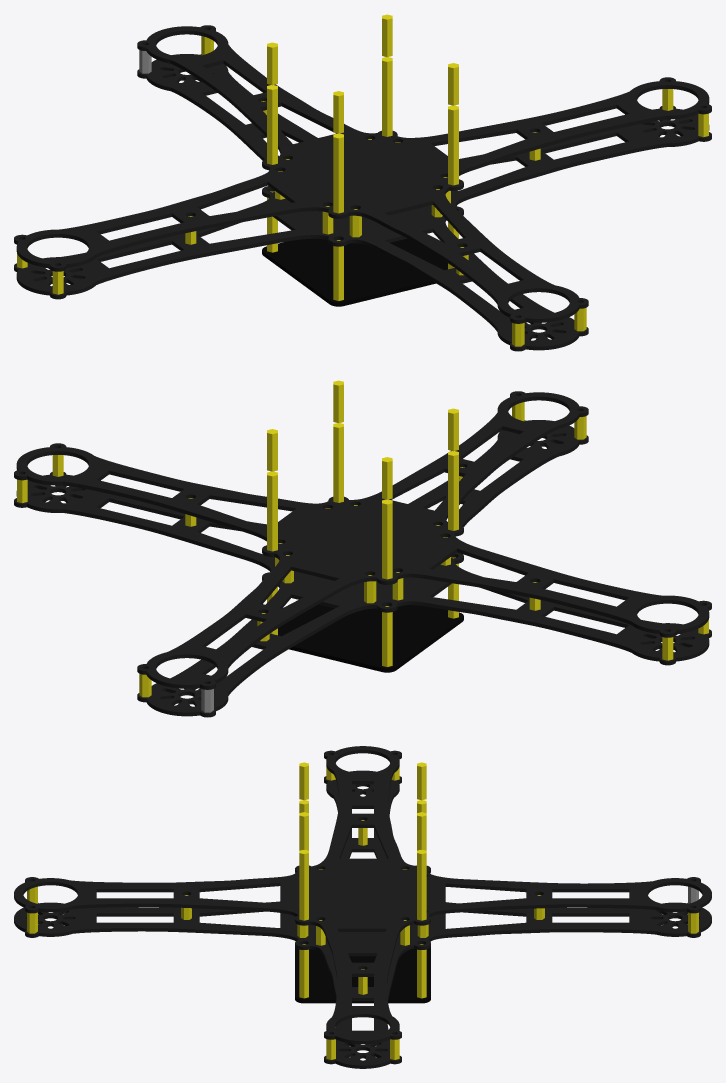
The model's file is c2f_frame.obj.
3 renders of one model, top to bottom at view 1: azimuth 30°, elevation 25°; view 2: azimuth 150°, elevation 25°; view 3: azimuth 270°, elevation 25°, orthographic. The views are drawn at different scales.
Visible parts, largest first — view 1: TopFrame, BottomFrame, Corps38, Spacer_4cm (1), Spacer_4cm (3), Spacer_4cm, Spacer_4cm (2), Spacer_30mm (1) (1); view 2: TopFrame, BottomFrame, Corps38, Spacer_4cm, Spacer_4cm (2), Spacer_4cm (1), Spacer_4cm (3), Spacer_30mm (2); view 3: TopFrame, BottomFrame, Corps38, Spacer_4cm, Spacer_4cm (1).
Boxes of the visible parts, x1,y1,x2,y2 form: TopFrame: [14, 25, 711, 323]; BottomFrame: [14, 54, 711, 351]; Corps38: [262, 238, 447, 306]; Spacer_4cm (1): [448, 105, 458, 185]; Spacer_4cm (3): [333, 133, 343, 213]; Spacer_4cm: [382, 57, 392, 136]; Spacer_4cm (2): [267, 85, 277, 164]; Spacer_30mm (1) (1): [333, 240, 343, 300]; TopFrame: [14, 391, 711, 689]; BottomFrame: [14, 420, 711, 717]; Corps38: [278, 604, 463, 672]; Spacer_4cm: [267, 471, 277, 551]; Spacer_4cm (2): [382, 499, 392, 579]; Spacer_4cm (1): [333, 423, 343, 502]; Spacer_4cm (3): [448, 451, 458, 530]; Spacer_30mm (2): [382, 606, 392, 666]; TopFrame: [14, 746, 711, 1044]; BottomFrame: [14, 770, 711, 1068]; Corps38: [295, 947, 430, 1003]; Spacer_4cm: [417, 849, 426, 920]; Spacer_4cm (1): [299, 849, 308, 920].
Bounding box in the file's own units: 0.38 × 0.1112 × 0.38.
